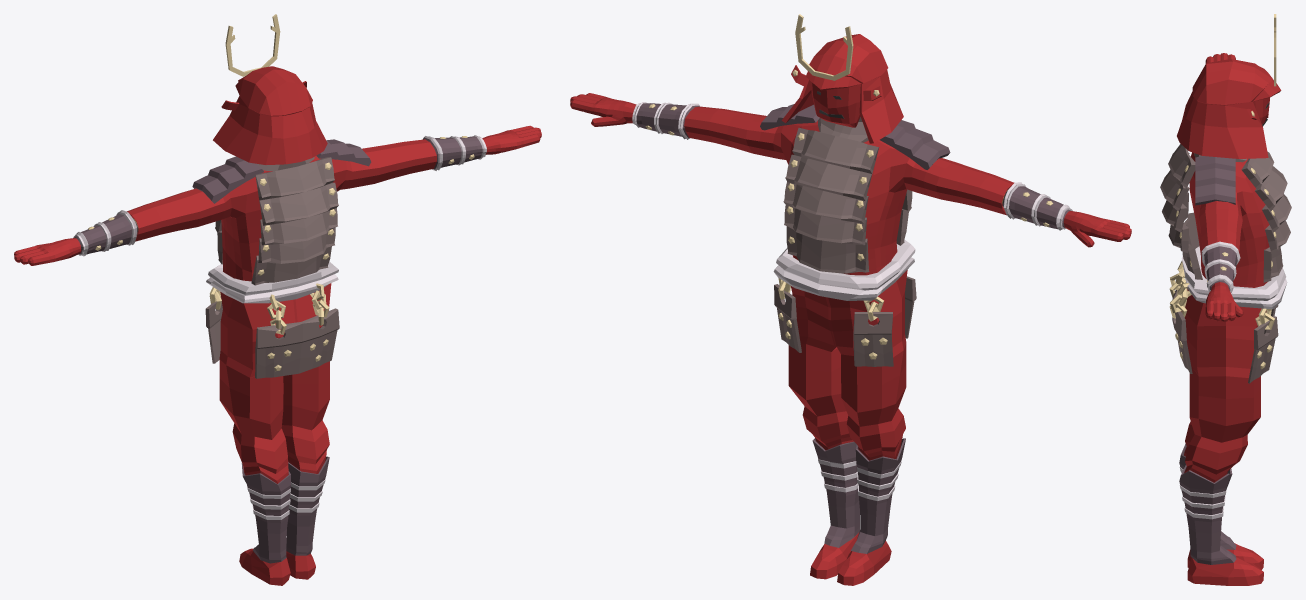
Rendered from shogun.fbx.
The picture shows the model from 3 angles, left to right: view 1: azimuth 30°, elevation 25°; view 2: azimuth 150°, elevation 25°; view 3: azimuth 270°, elevation 25°; orthographic projection. The views are drawn at different scales.
Parts seen in each view (by area): view 1: Shogun; view 2: Shogun; view 3: Shogun.
Boxes of the visible parts, left/top/right/bottom form: Shogun: left=14, top=14, right=541, bottom=585; Shogun: left=570, top=14, right=1131, bottom=585; Shogun: left=1160, top=14, right=1291, bottom=585.
Size of the model in its own units: 358 by 346 by 75.35.
